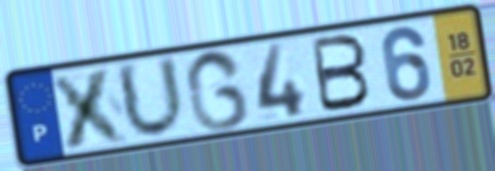4: (253, 39, 313, 121)
6: (378, 23, 433, 104)
B: (309, 31, 374, 116)
G: (182, 46, 253, 134)
U: (112, 52, 190, 142)
X: (46, 64, 134, 152)
